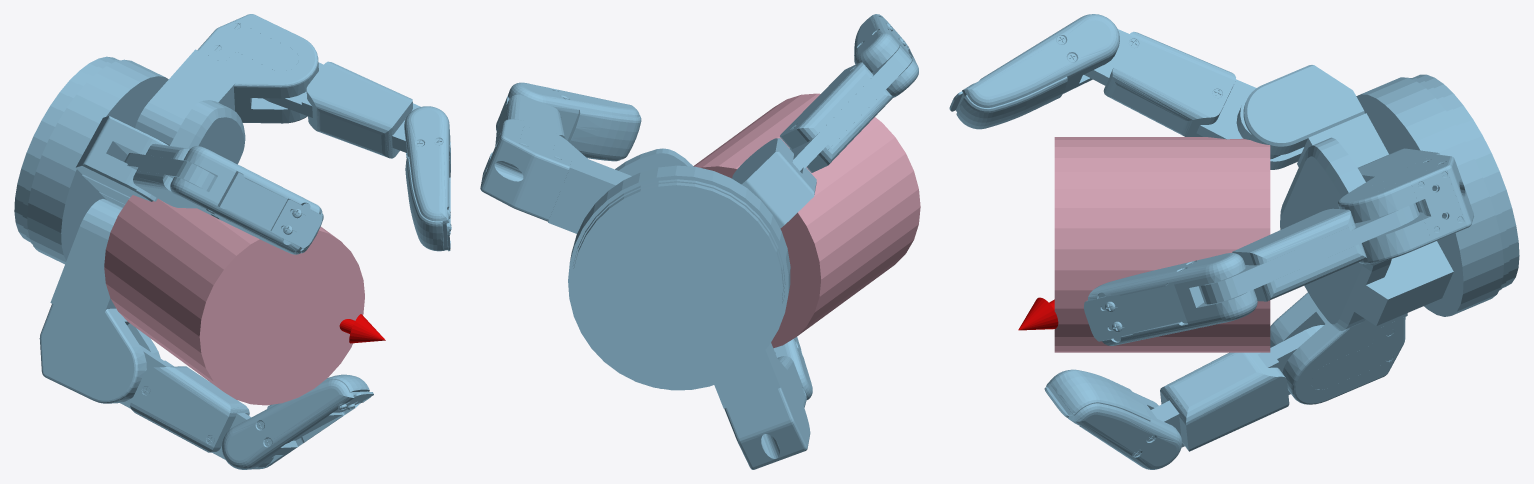
3 renders of one model, left to right at view 1: azimuth 30°, elevation 25°; view 2: azimuth 150°, elevation 25°; view 3: azimuth 270°, elevation 25°, orthographic. The views are drawn at different scales.
Parts seen in each view (by area): view 1: world, cylinder_medium.stl; view 2: world, cylinder_medium.stl; view 3: world, cylinder_medium.stl.
Boxes of the visible parts, left/top/right/bottom form: world: left=14, top=14, right=451, bottom=469; cylinder_medium.stl: left=104, top=195, right=364, bottom=405; world: left=480, top=14, right=918, bottom=469; cylinder_medium.stl: left=693, top=93, right=920, bottom=348; world: left=949, top=14, right=1519, bottom=469; cylinder_medium.stl: left=1054, top=137, right=1270, bottom=352.
Bounding box in the file's own units: 0.1704 × 0.1668 × 0.2115.
